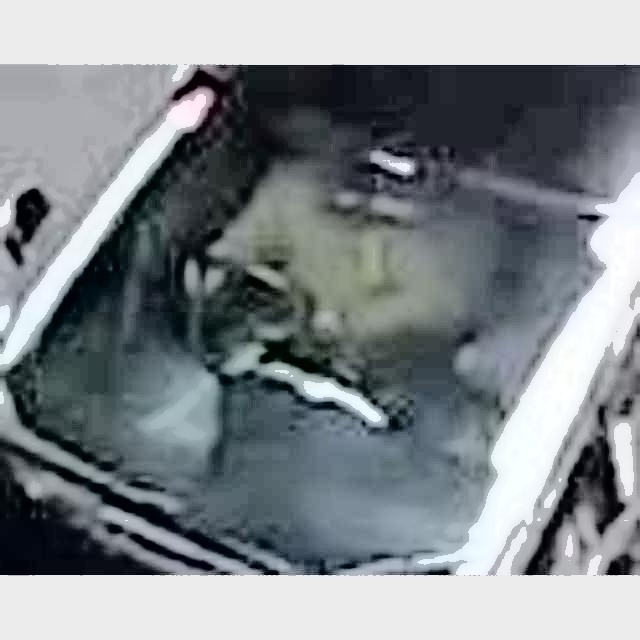tidak-pakai: (206, 142, 470, 370)
